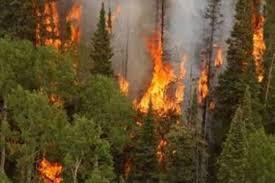fire: (133, 24, 190, 113), (31, 0, 83, 48), (193, 42, 225, 102), (248, 4, 267, 83), (37, 155, 65, 181), (153, 136, 170, 162), (115, 70, 131, 95), (45, 90, 64, 108)
